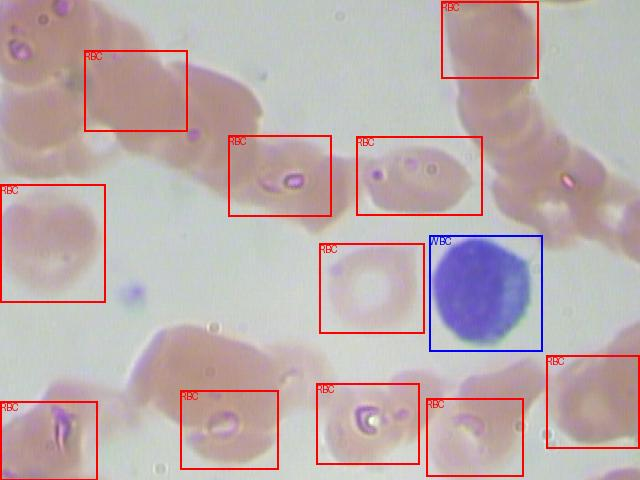RBC: (0, 184, 105, 302), (356, 136, 482, 215), (319, 243, 424, 333), (546, 355, 639, 448), (316, 383, 419, 464), (84, 50, 187, 131), (228, 135, 331, 216), (180, 390, 278, 469), (0, 401, 97, 480), (426, 398, 523, 476), (441, 1, 538, 78)
WBC: (429, 235, 542, 351)
